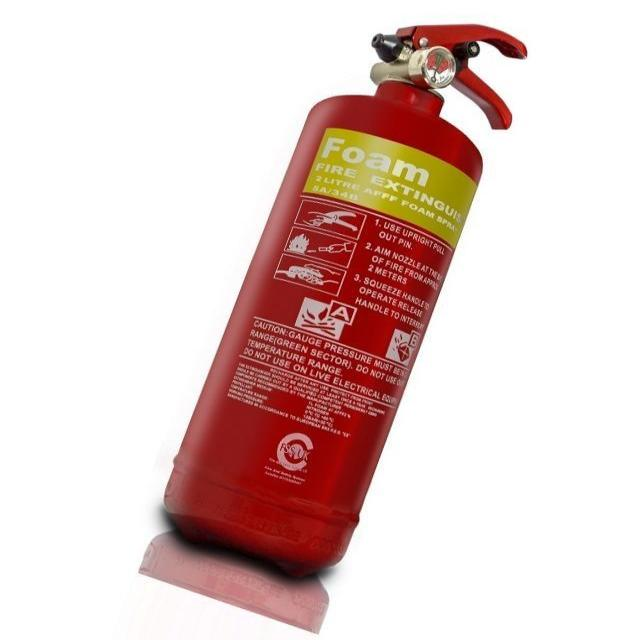fire_extinguisher: (155, 18, 532, 583)
